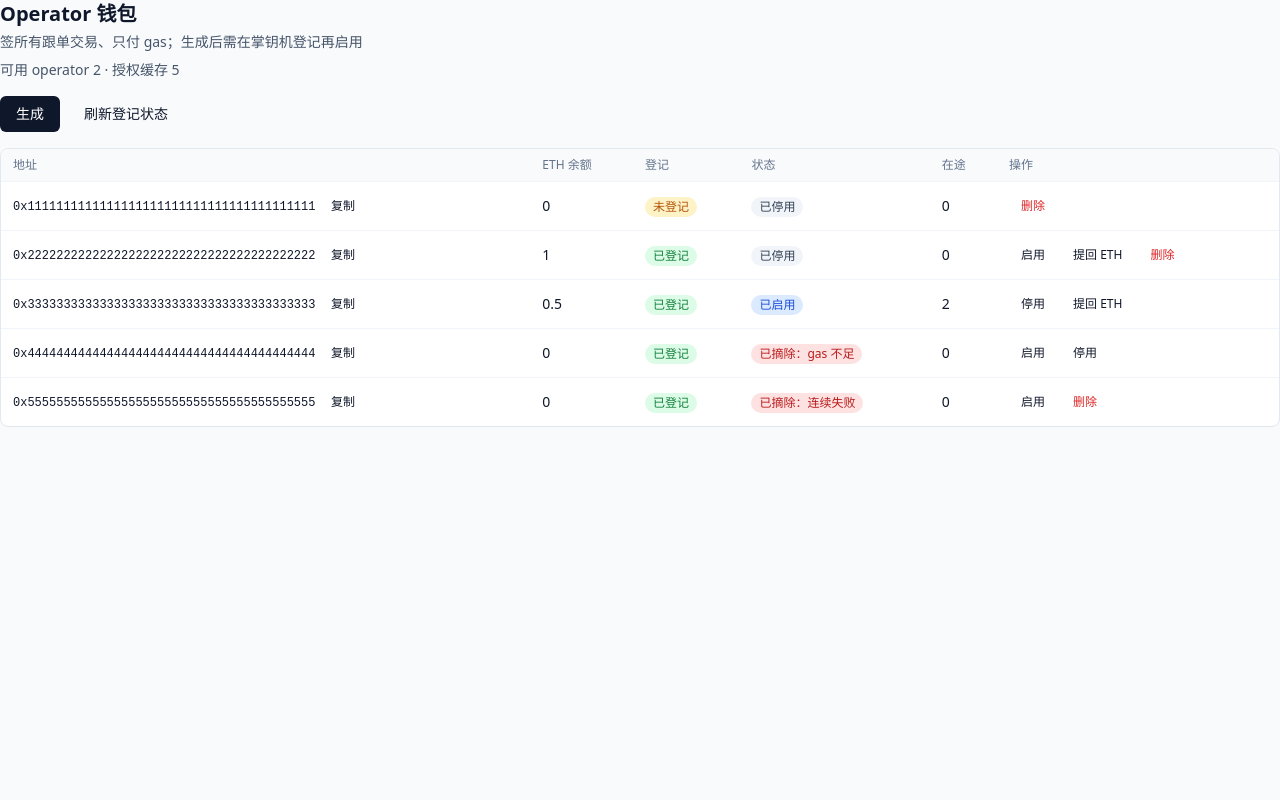
it: shows a non-bypassable 409 delete message (仍有在途交易) with no 强制删除 button
Click the 2nd button "删除".
click(1162, 255)  # box [1138,239,1186,271]
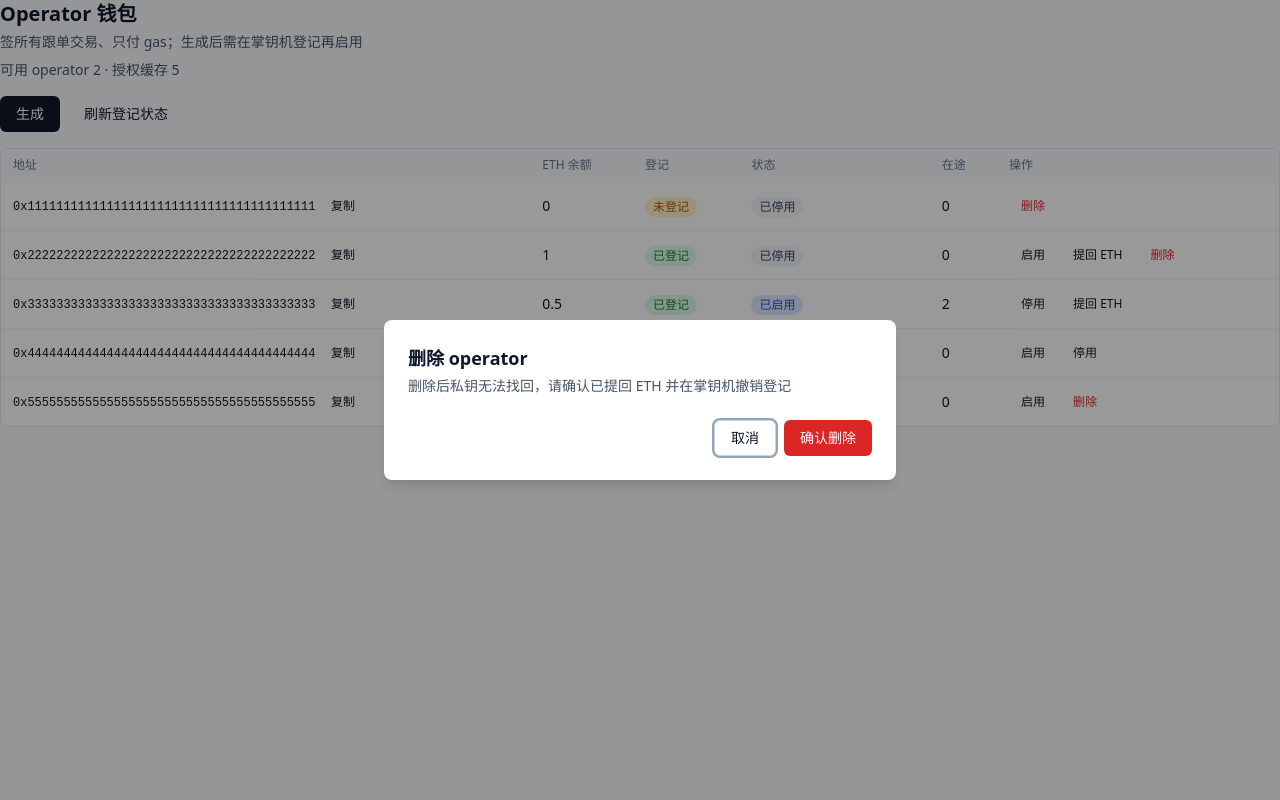
Click the button "确认删除".
click(828, 438)  # box [784,420,872,456]
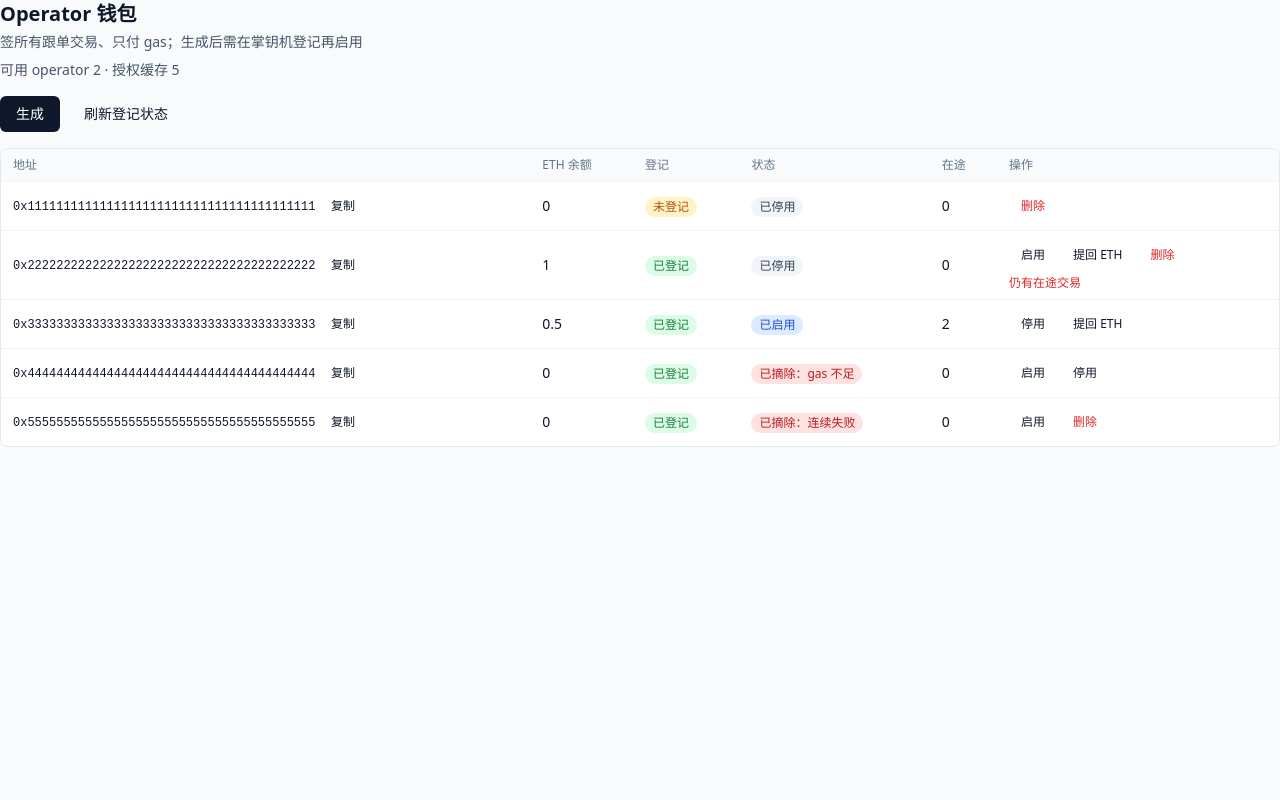
Now the text "仍有在途交易" is shown, box [1009,274,1081,291]
